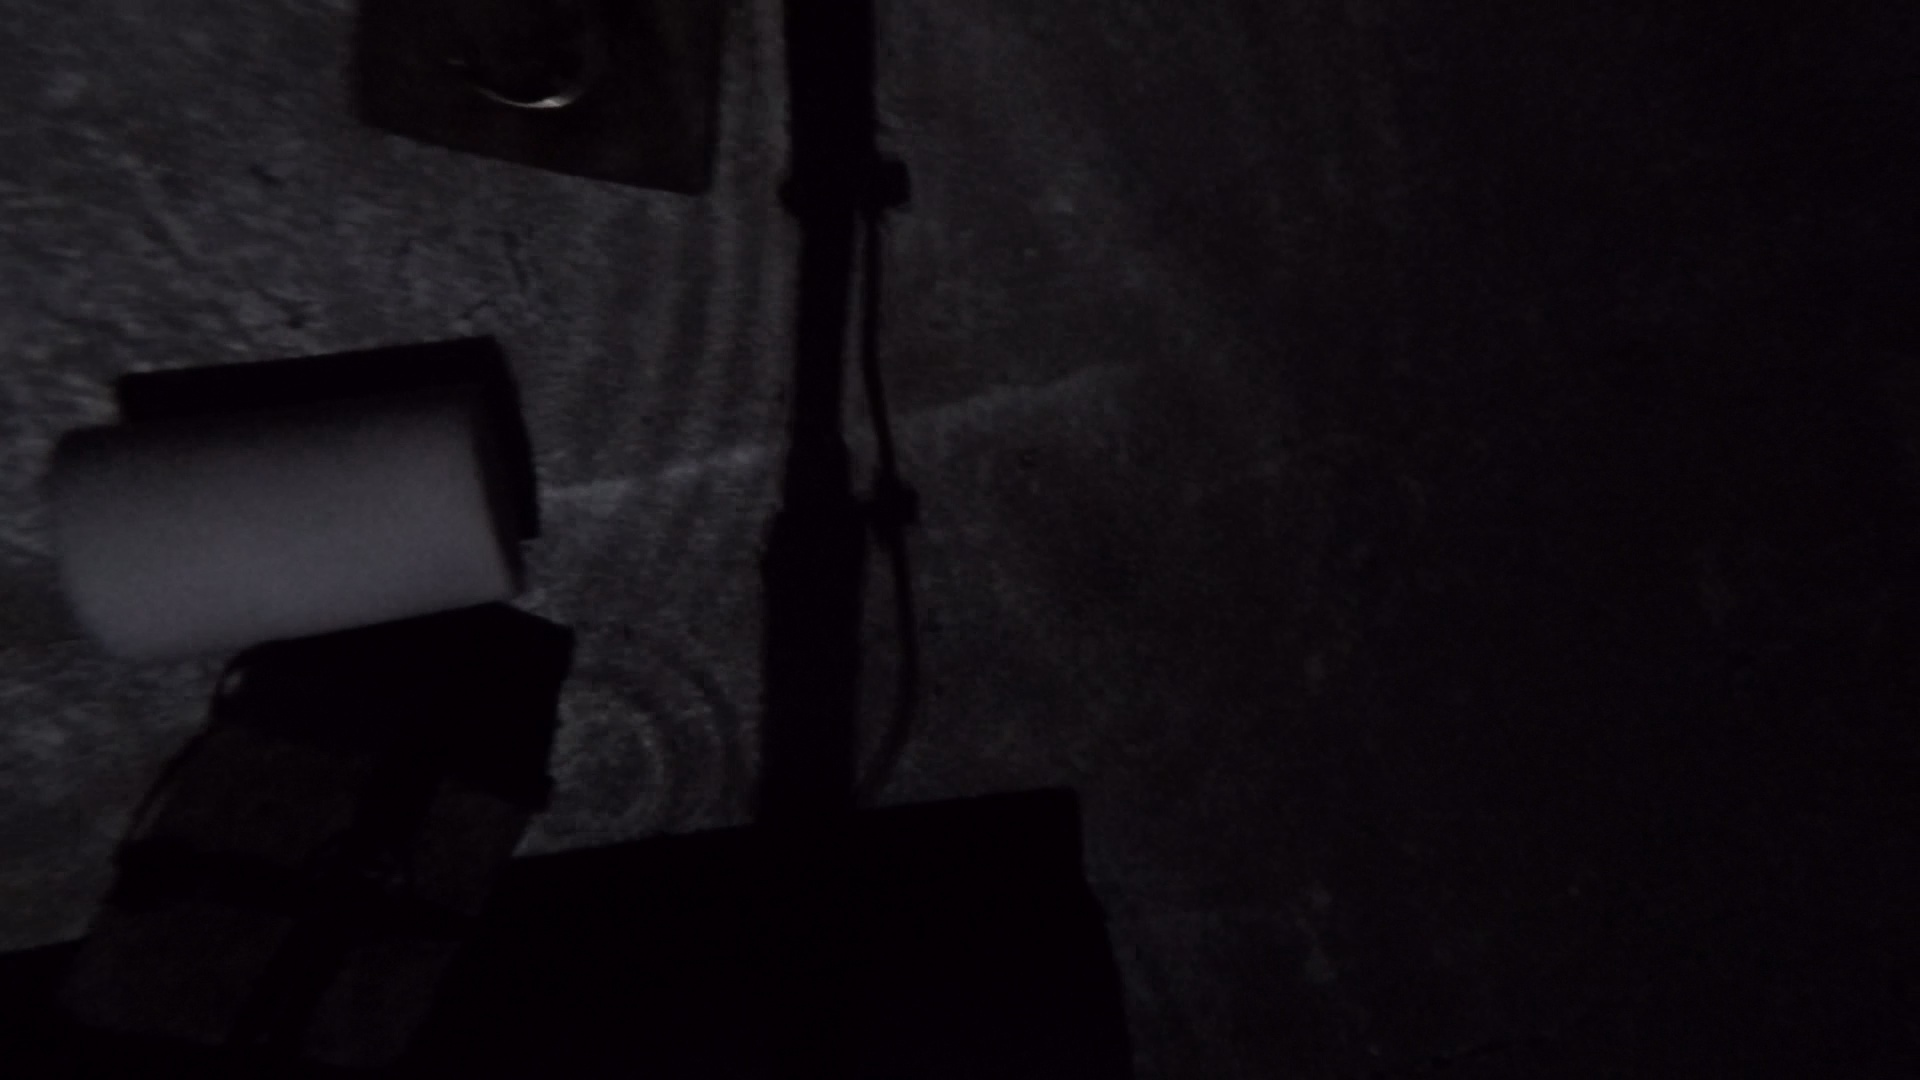led_block: (49, 723, 531, 1069), (338, 3, 728, 204)
pipe: (1, 781, 1079, 1077), (49, 390, 531, 662)
